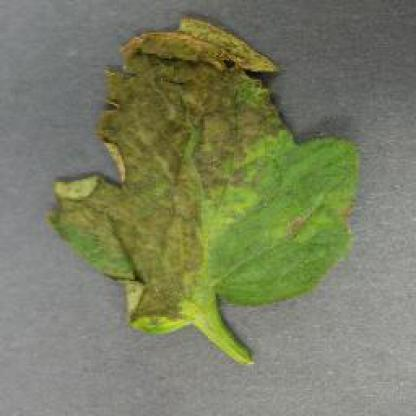bad leaf: (51, 12, 274, 340)
